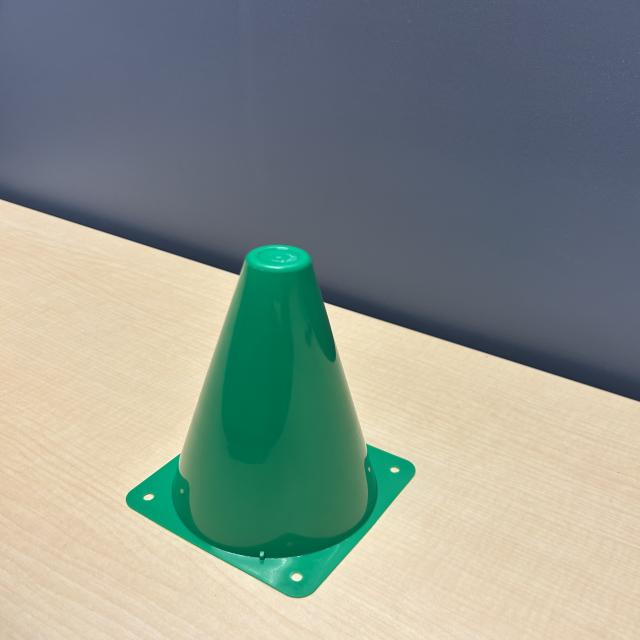green cone: (111, 241, 433, 603)
